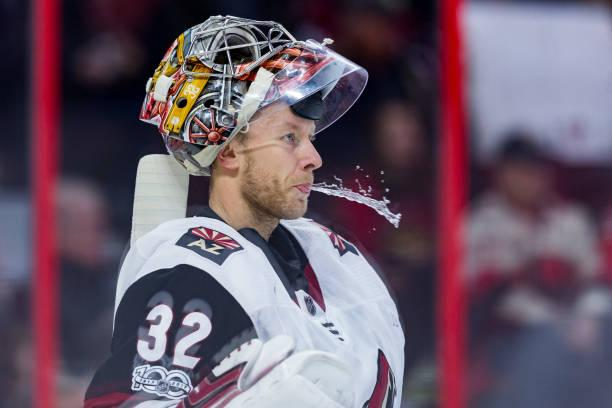Spitting: (123, 19, 439, 253)
